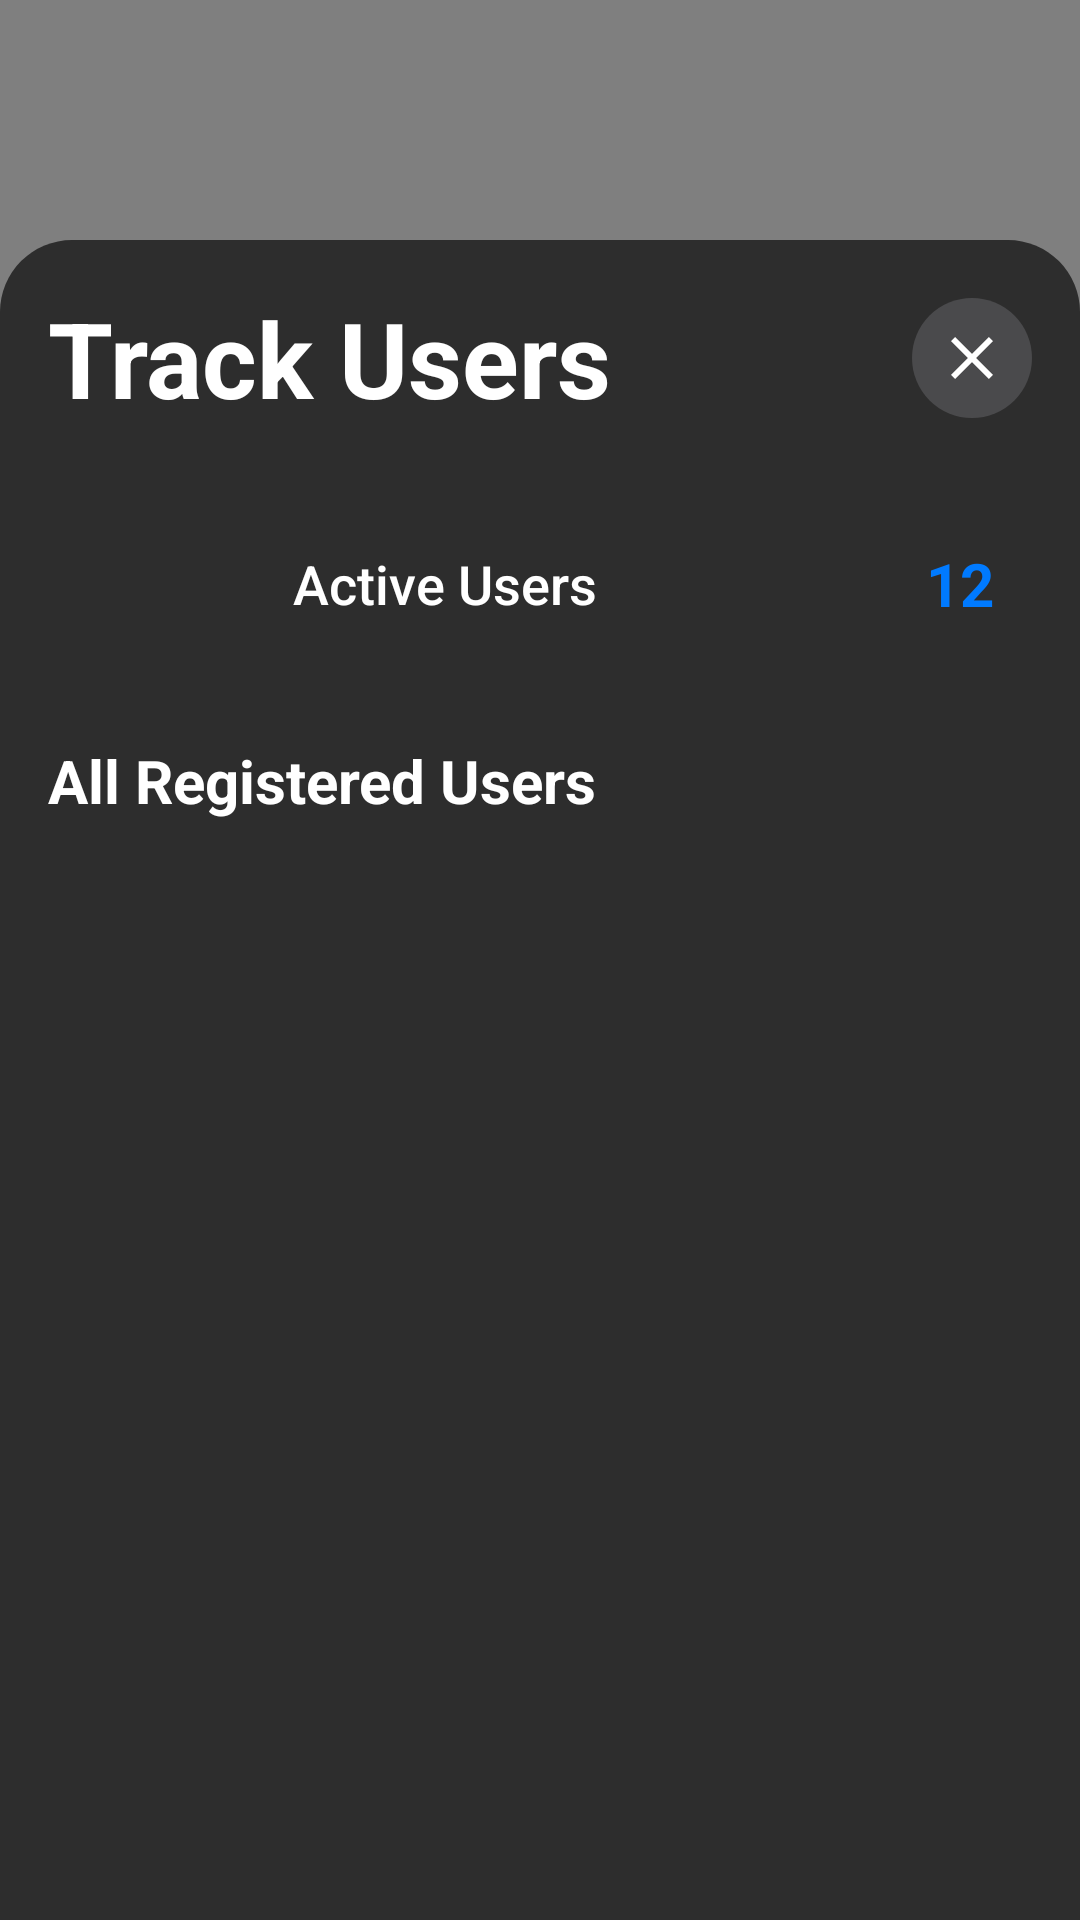

Where to tap for icons on this 1080w x 1920h app screen, as (x=x, y=y):
Close: (x=972, y=358)
